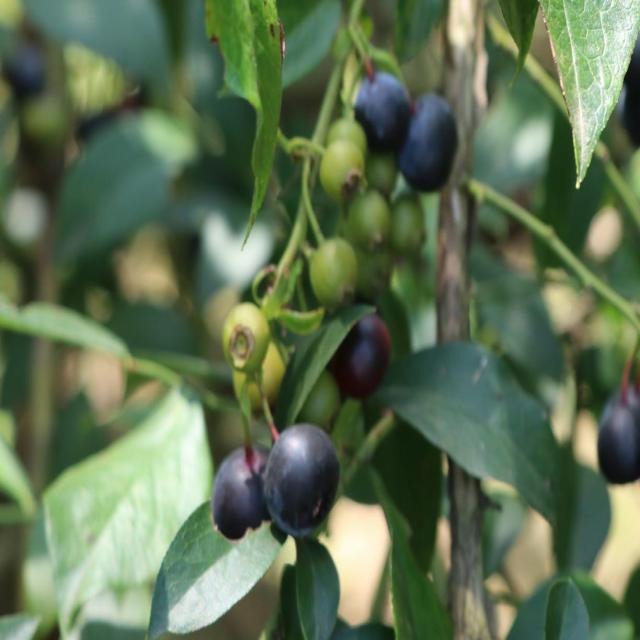blueberry: (260, 422, 338, 536), (210, 442, 286, 544), (398, 90, 454, 192), (593, 376, 639, 489), (334, 312, 391, 396), (352, 70, 410, 146)
blueberry-unripe: (310, 237, 355, 303), (224, 304, 268, 371), (317, 136, 367, 194), (349, 187, 386, 245)
